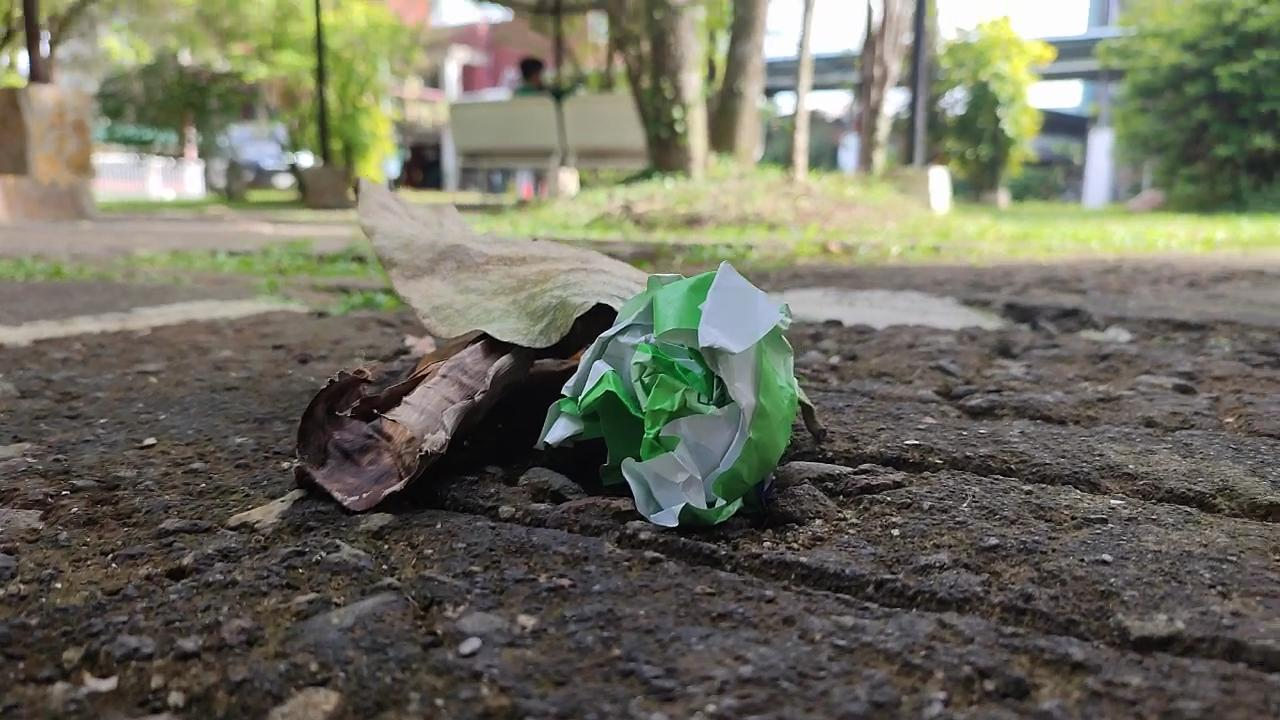Paper: (521, 245, 814, 550)
